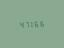four: (18, 20, 22, 28)
one: (28, 20, 32, 27)
seven: (23, 20, 27, 28)
six: (33, 19, 37, 27), (38, 19, 42, 27)
